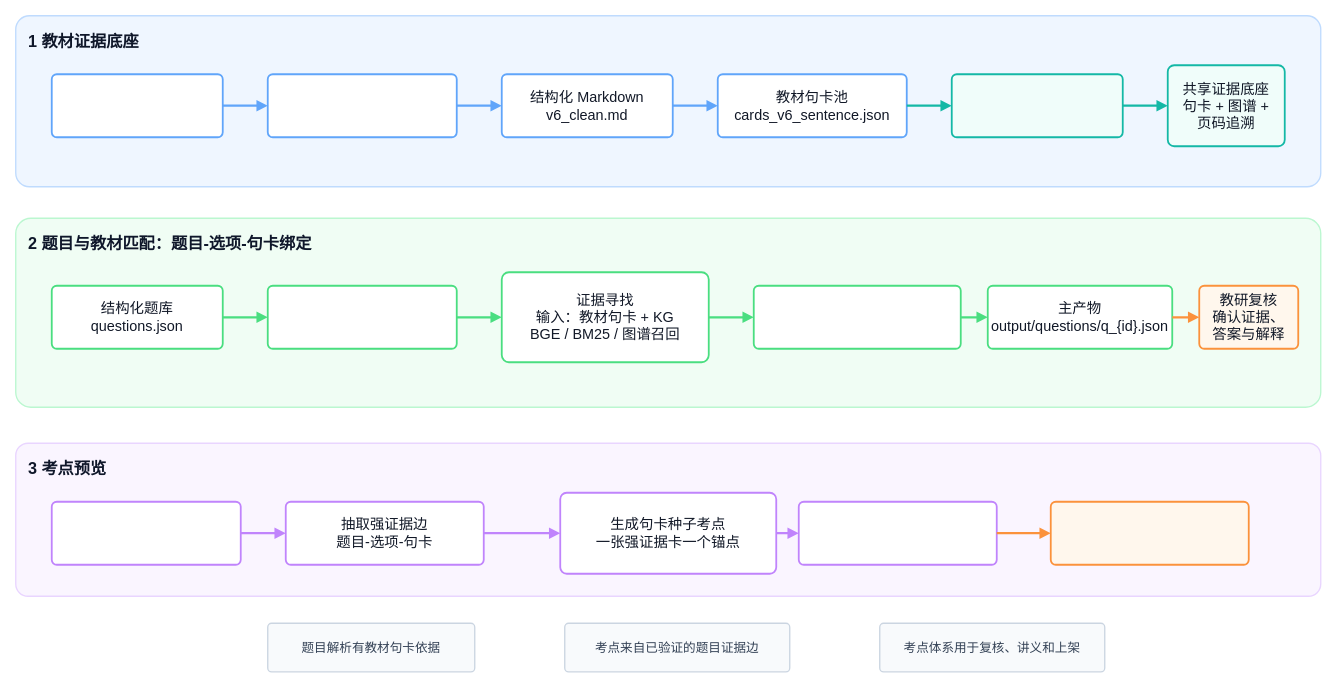
The diagram is 1337 pixels wide and 689 high, and some of its shapes have lost their labels. The centre of each missing label's shape, as x and y in pixels:
"AI 候选答案生成 判断 / 分歧标记" belongs at point (856, 316).
"MinerU 解析 版面 / 段落 / 表格还原" belongs at point (361, 105).
"合并 / 父子 / 混淆项判断 形成考点结构" belongs at point (897, 532).
"教材 PDF CAMS 中文版教材 V6.51" belongs at point (136, 105).
"教材知识图谱 kg_data.json" belongs at point (1036, 105).
"考点体系预览 结构、关系与命名样本" belongs at point (1149, 532).
"选项拆解 题干 / 选项 / 标准答案" belongs at point (361, 316).
"题目解析产物 output/questions/q_{id}.json" belongs at point (145, 532).
